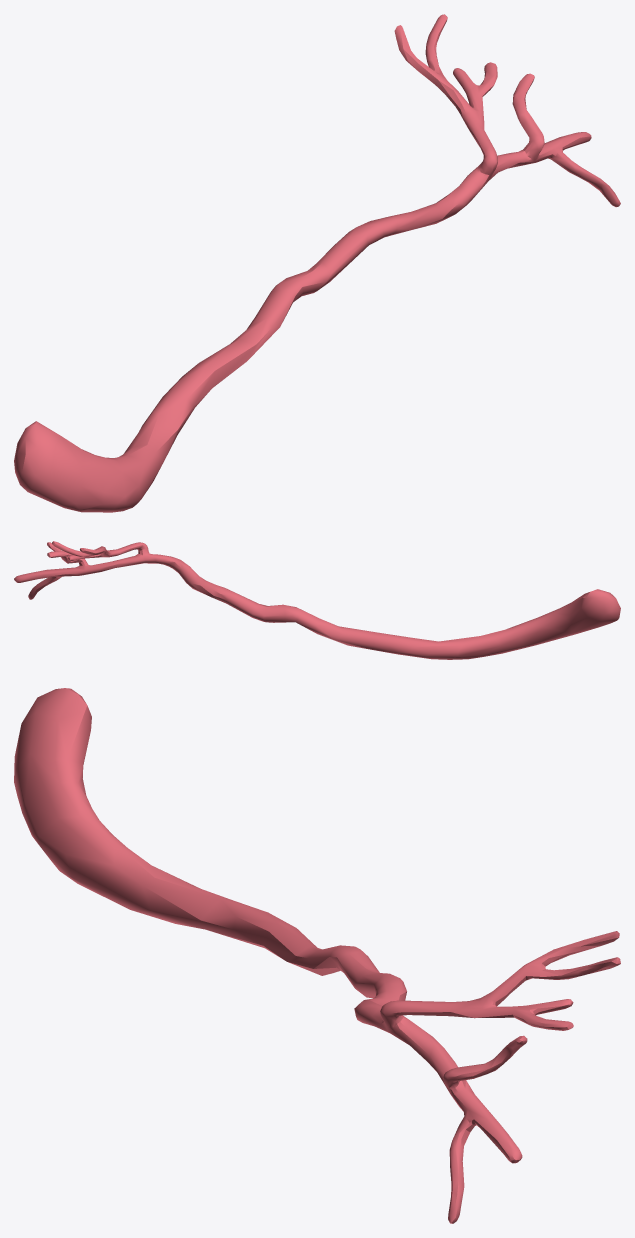
Rendered from fma14773_fj3640.glb.
3 views of the same model, one above another, from view 1: azimuth 30°, elevation 25°; view 2: azimuth 150°, elevation 25°; view 3: azimuth 270°, elevation 25° (orthographic). The views are drawn at different scales.
Visible parts, largest first — view 1: FMA14773_FJ3640; view 2: FMA14773_FJ3640; view 3: FMA14773_FJ3640.
Part boxes in pixels (bbox=[...]): FMA14773_FJ3640: bbox=[14, 14, 620, 512]; FMA14773_FJ3640: bbox=[14, 541, 620, 659]; FMA14773_FJ3640: bbox=[14, 688, 620, 1223].
Size of the model in its own units: 0.0944 by 0.0238 by 0.0532.
